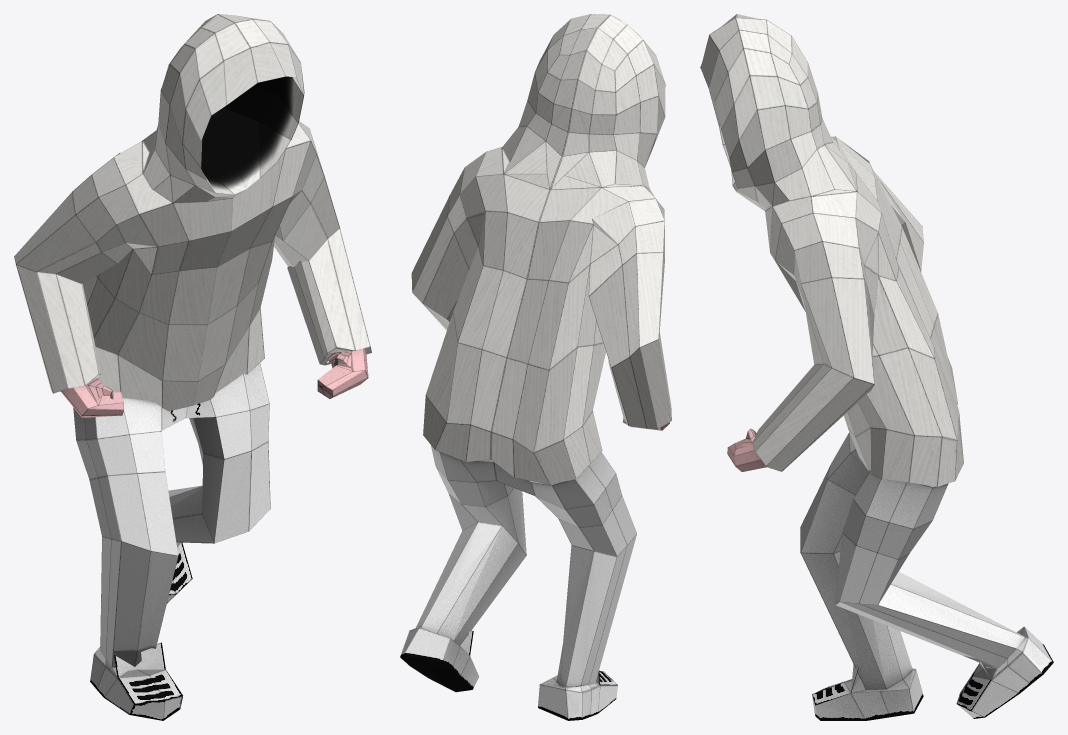
File: Shadowmanv_000010.obj
The picture shows the model from 3 angles, left to right: view 1: azimuth 30°, elevation 25°; view 2: azimuth 150°, elevation 25°; view 3: azimuth 270°, elevation 25°; orthographic projection. The views are drawn at different scales.
Parts seen in each view (by area): view 1: Cube.000; view 2: Cube.000; view 3: Cube.000.
Part boxes in pixels (bbox=[...]): Cube.000: bbox=[14, 14, 371, 720]; Cube.000: bbox=[400, 14, 671, 720]; Cube.000: bbox=[700, 14, 1053, 720].
Size of the model in its own units: 4.81 by 11.08 by 4.98.
